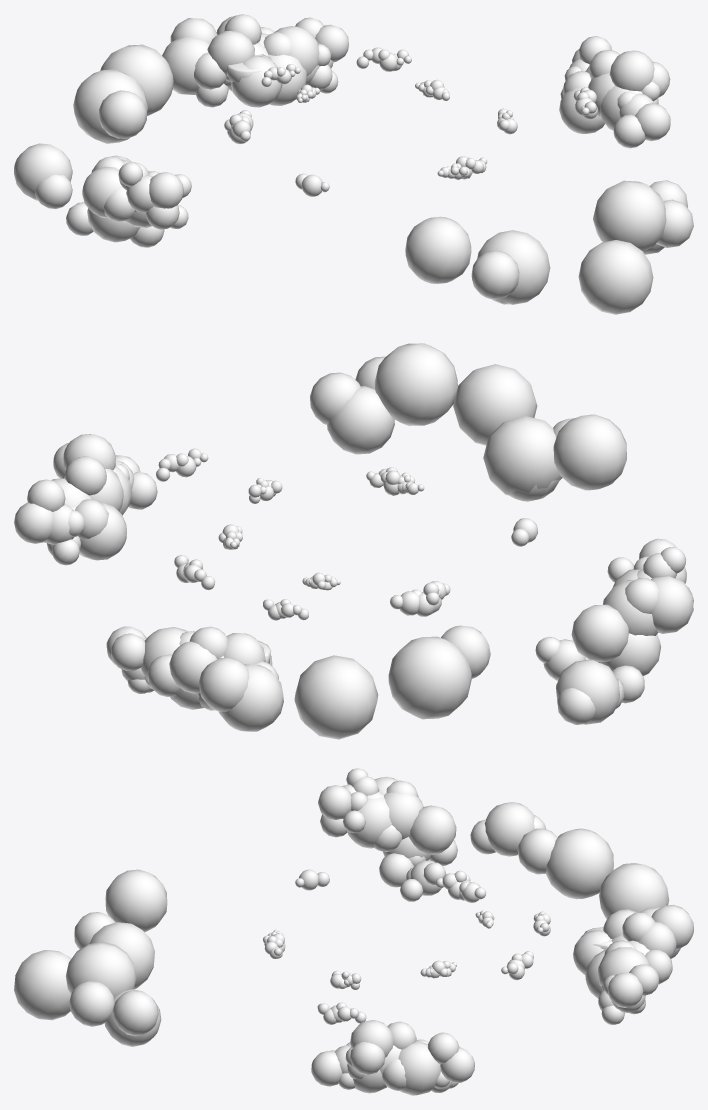
File: clouds_small2.glb
3 renders of one model, top to bottom at view 1: azimuth 30°, elevation 25°; view 2: azimuth 150°, elevation 25°; view 3: azimuth 270°, elevation 25°, orthographic. The views are drawn at different scales.
Visible parts, largest first — view 1: Sphere.008; view 2: Sphere.008; view 3: Sphere.008.
Part boxes in pixels (left/top/right/bottom): Sphere.008: left=14, top=14, right=693, bottom=314; Sphere.008: left=14, top=343, right=693, bottom=739; Sphere.008: left=14, top=768, right=693, bottom=1095.
Size of the model in its own units: 41.9 by 7.59 by 45.6.
Materials: 1 (1 with a texture image).
